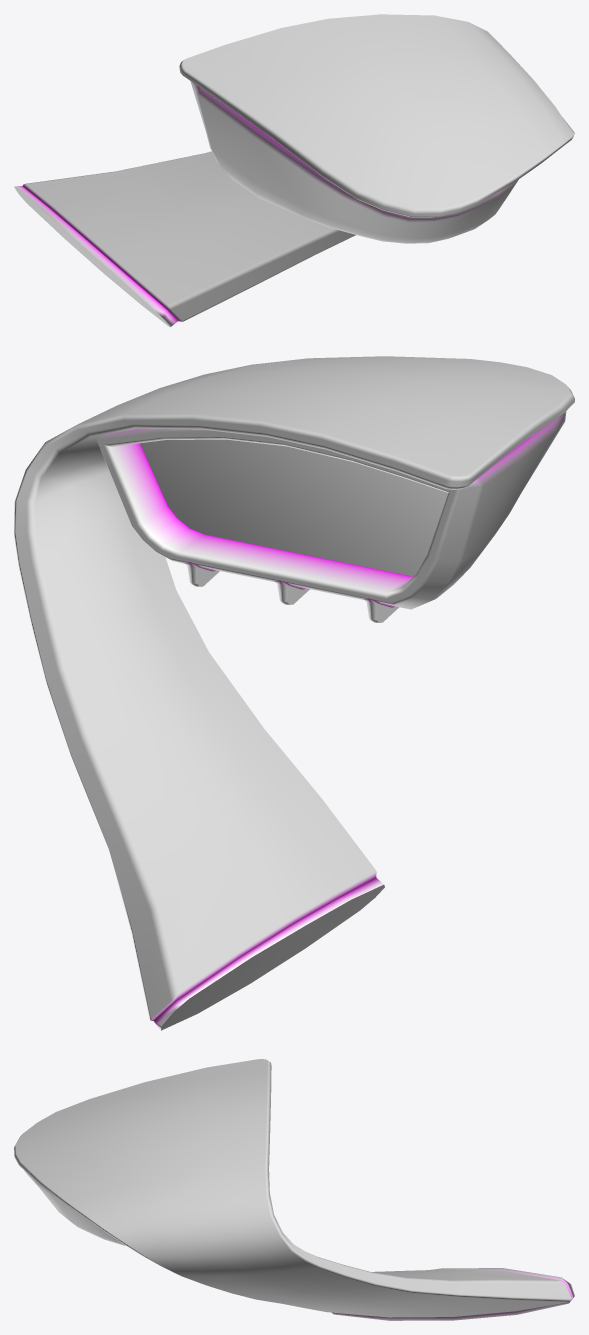
The model's file is Car_Mini_CountrymanJCW_2017_MirrorL_SetD.fbx.
3 views of the same model, one above another, from view 1: azimuth 30°, elevation 25°; view 2: azimuth 150°, elevation 25°; view 3: azimuth 270°, elevation 25° (orthographic). The views are drawn at different scales.
Parts seen in each view (by area): view 1: MirrorL 6; view 2: MirrorL 6; view 3: MirrorL 6.
Part boxes in pixels (<box>): MirrorL 6: <box>14,14,574,327</box>; MirrorL 6: <box>14,356,574,1030</box>; MirrorL 6: <box>14,1059,574,1320</box>.
Size of the model in its own units: 0.2032 by 0.19 by 0.3798.
